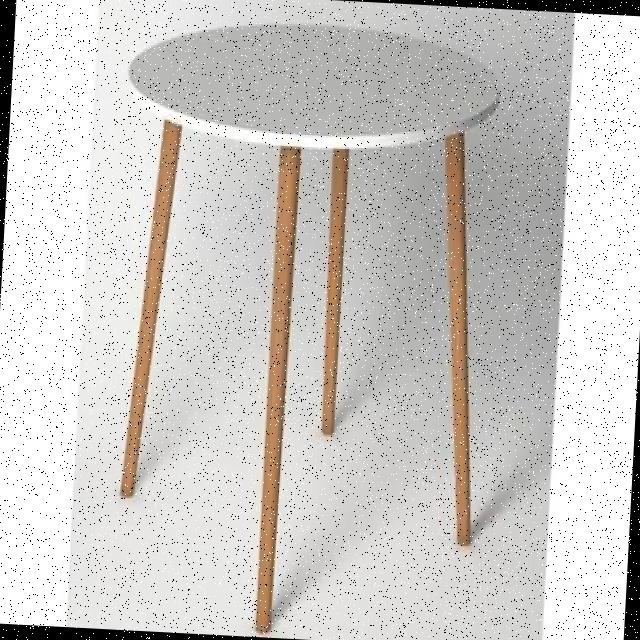Table: (72, 0, 546, 640)
